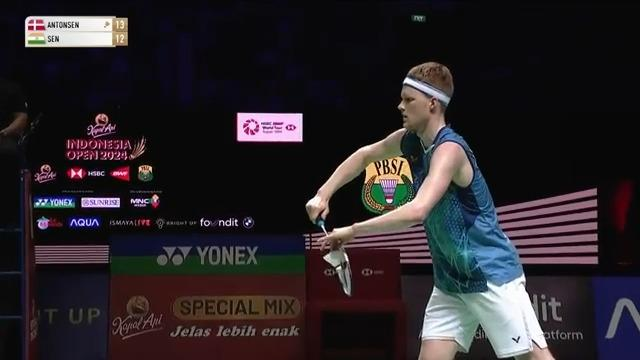Shuttlecock: (318, 242, 349, 272)
